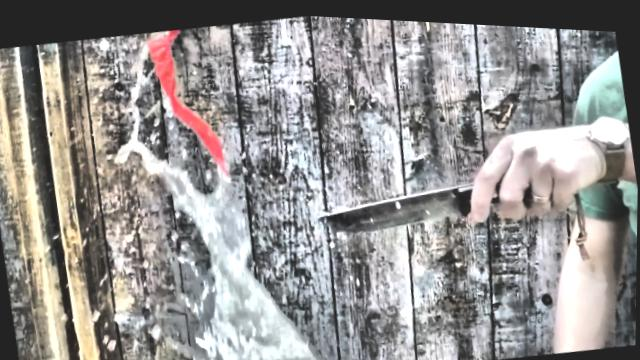knife: (295, 110, 554, 251)
